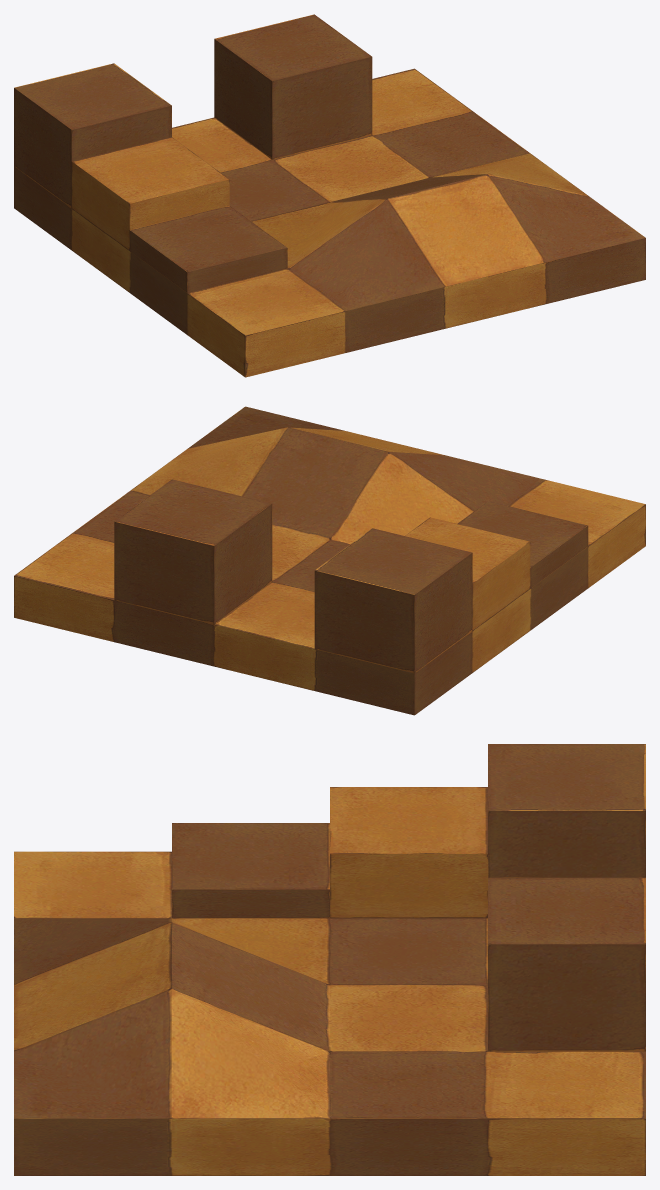
File: OLDTESTLevel.glb
The picture shows the model from 3 angles, top to bottom: view 1: azimuth 30°, elevation 25°; view 2: azimuth 150°, elevation 25°; view 3: azimuth 270°, elevation 25°; orthographic projection. The views are drawn at different scales.
Parts seen in each view (by area): view 1: TESTLevel; view 2: TESTLevel; view 3: TESTLevel.
Part boxes in pixels (left/top/right/bottom): TESTLevel: left=14, top=14, right=645, bottom=377; TESTLevel: left=14, top=406, right=645, bottom=715; TESTLevel: left=14, top=744, right=645, bottom=1175.
Size of the model in its own units: 40 by 11.5 by 40.
1 material, 1 textured.
